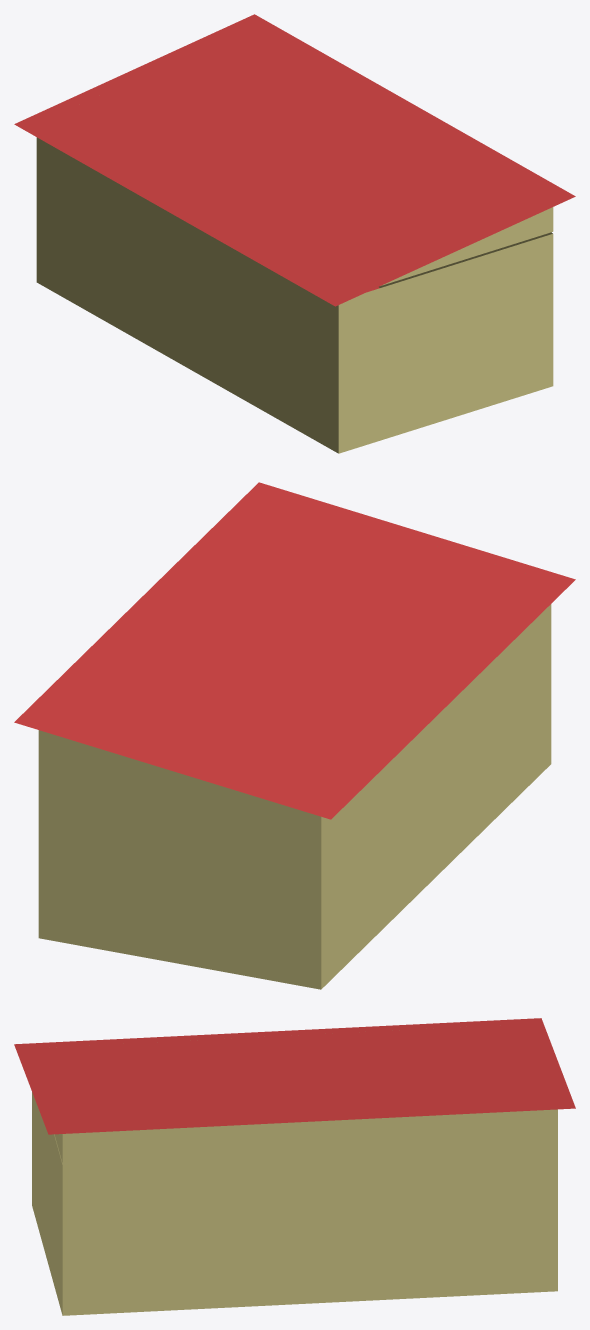
3 renders of one model, top to bottom at view 1: azimuth 30°, elevation 25°; view 2: azimuth 150°, elevation 25°; view 3: azimuth 270°, elevation 25°, orthographic. The views are drawn at different scales.
Bounding box in the file's own units: 16.59 × 26.18 × 9.7.
